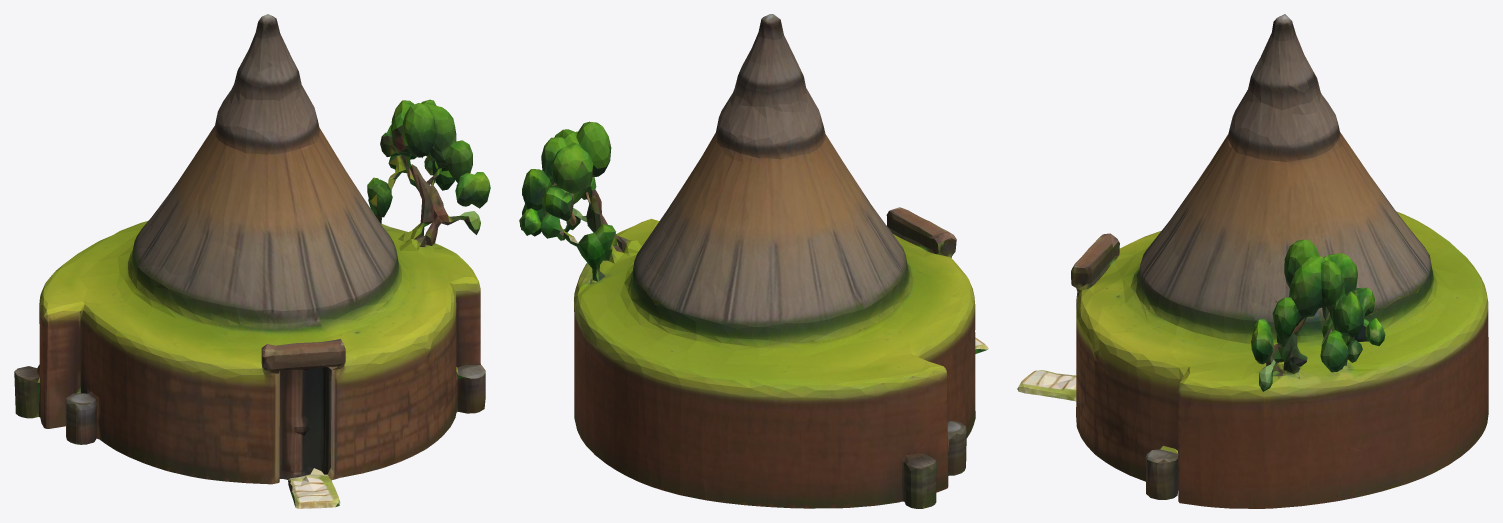
Rendered from etiopia_casa.glb.
3 views of the same model, side by side, from view 1: azimuth 30°, elevation 25°; view 2: azimuth 150°, elevation 25°; view 3: azimuth 270°, elevation 25° (orthographic). The views are drawn at different scales.
Visible parts, largest first — view 1: geometry_0; view 2: geometry_0; view 3: geometry_0.
Part boxes in pixels (<box>): geometry_0: <box>14,14,490,508</box>; geometry_0: <box>519,14,988,508</box>; geometry_0: <box>1017,14,1488,508</box>.
Size of the model in its own units: 1.4 by 1.24 by 1.31.
Materials: 1 (1 with a texture image).
